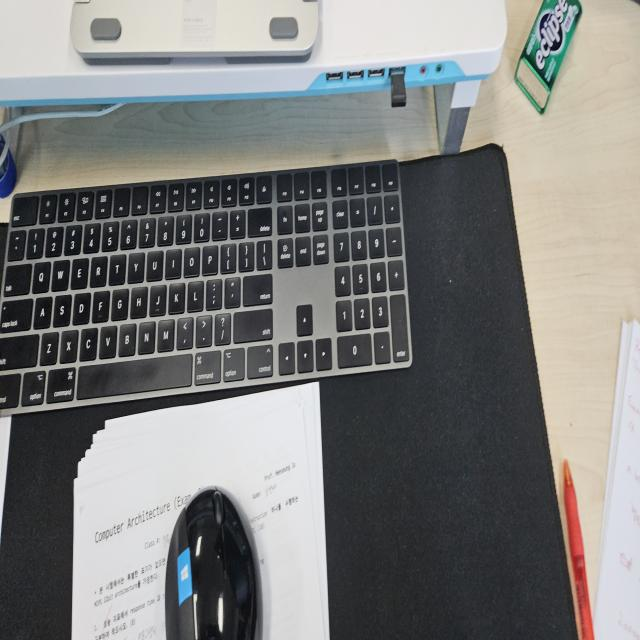Keyboard: (1, 158, 413, 415)
Mouse: (162, 482, 260, 637)
